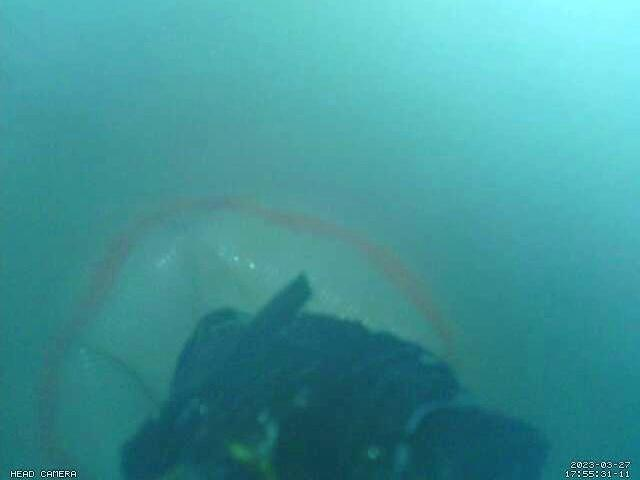head: (36, 195, 455, 480)
